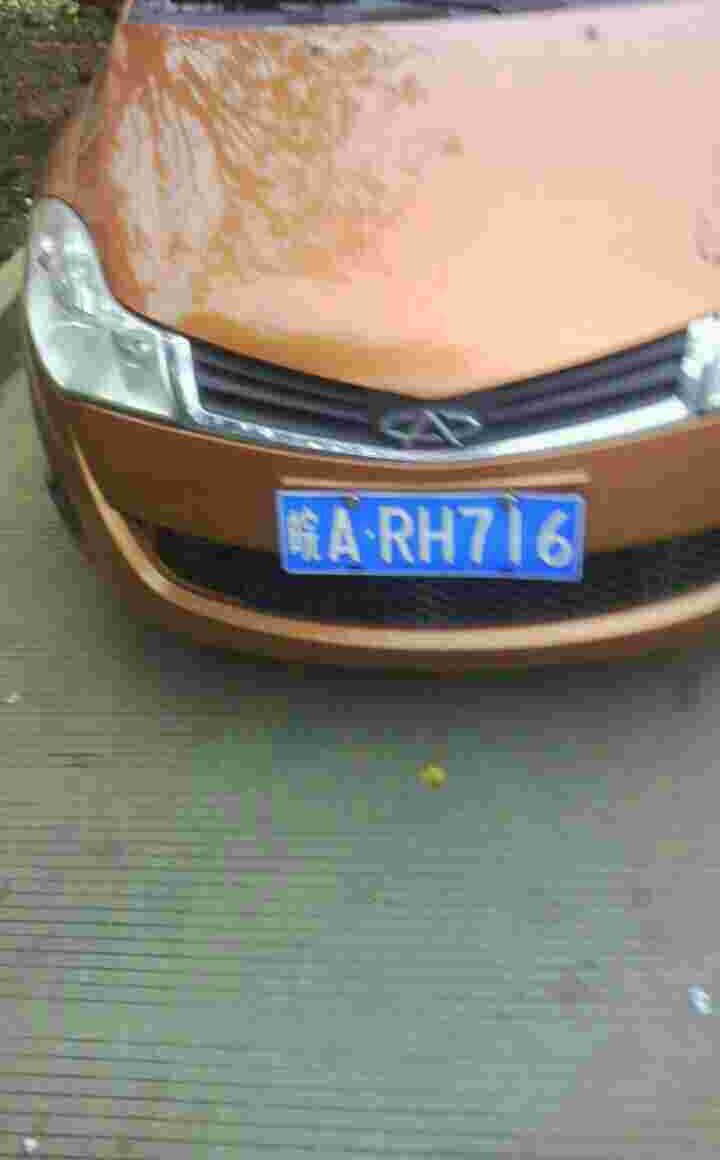license_plate: (275, 491, 567, 585)
